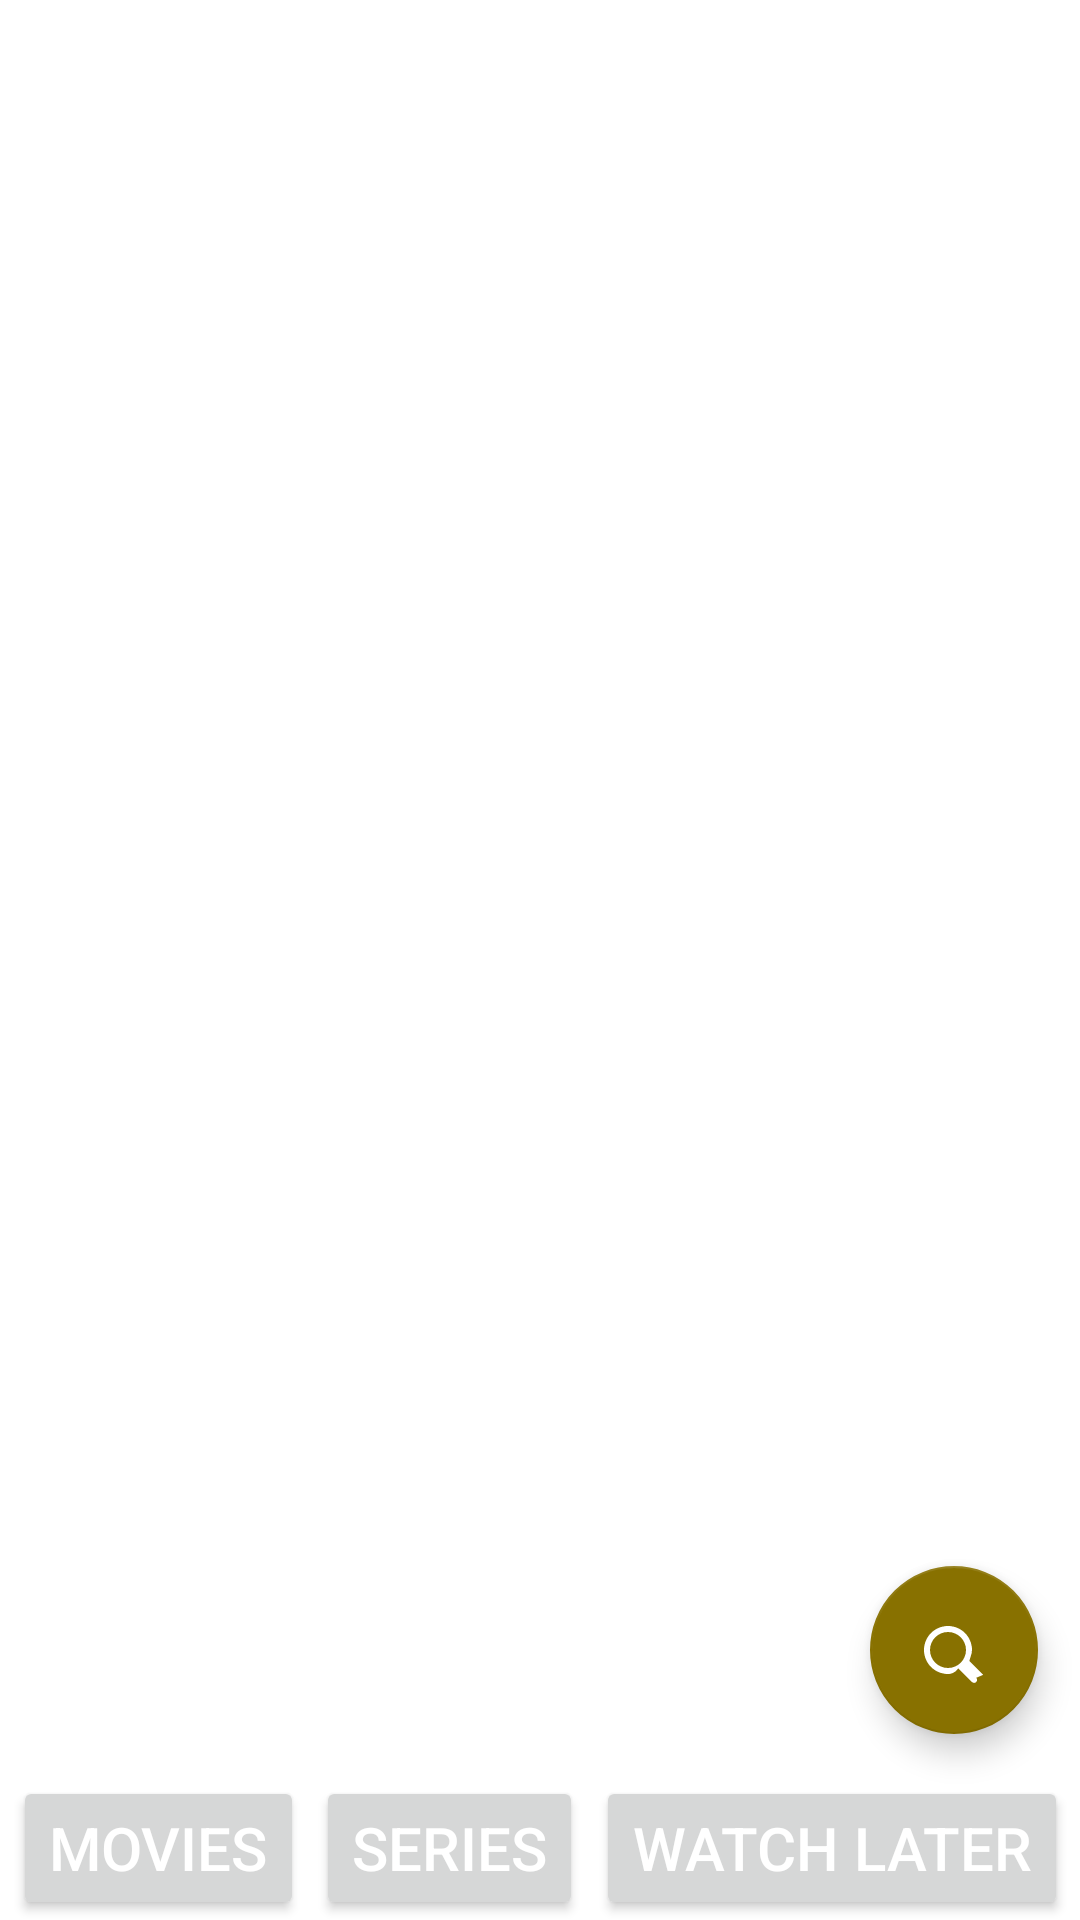

Screen size 1080*1920. Icon name, then its box in pixels as bbox=[x1, y1, x2, y2]:
magnifying glass: bbox=[870, 1566, 1038, 1734]
